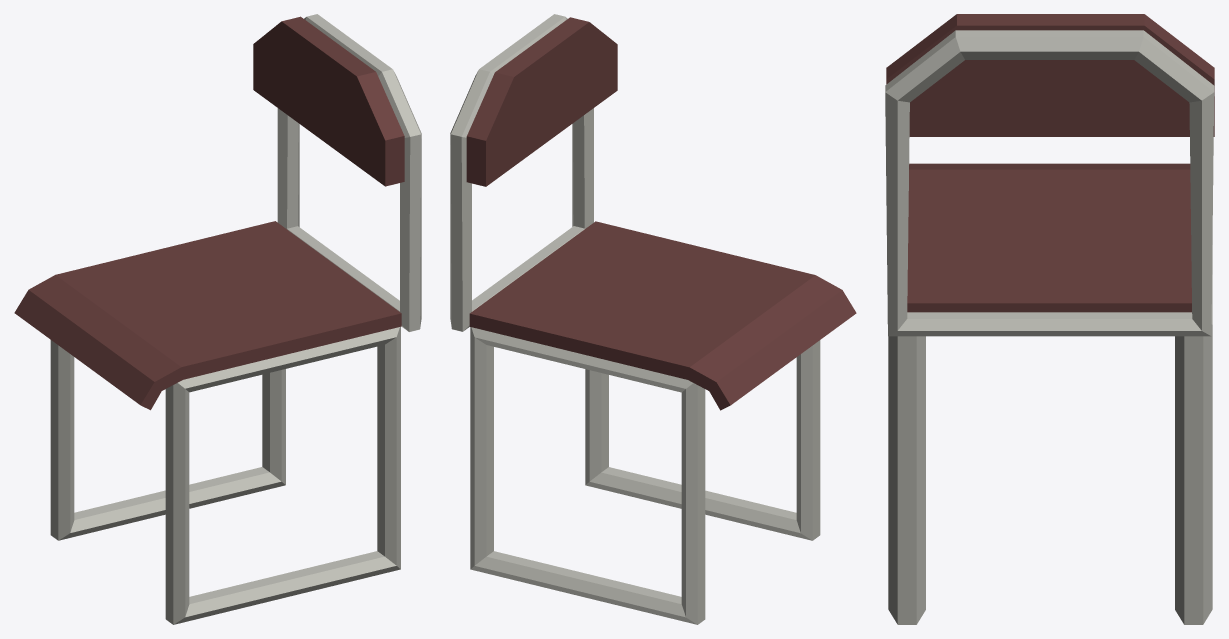
Rendered from stul_lab.fbx.
3 views of the same model, side by side, from view 1: azimuth 30°, elevation 25°; view 2: azimuth 150°, elevation 25°; view 3: azimuth 270°, elevation 25° (orthographic). The views are drawn at different scales.
Parts seen in each view (by area): view 1: Cube.099; view 2: Cube.099; view 3: Cube.099.
Part boxes in pixels (x1,y1,x2,y2): Cube.099: [14, 14, 421, 624]; Cube.099: [450, 14, 856, 624]; Cube.099: [885, 14, 1214, 624].
Size of the model in its own units: 107 by 173 by 86.38.
